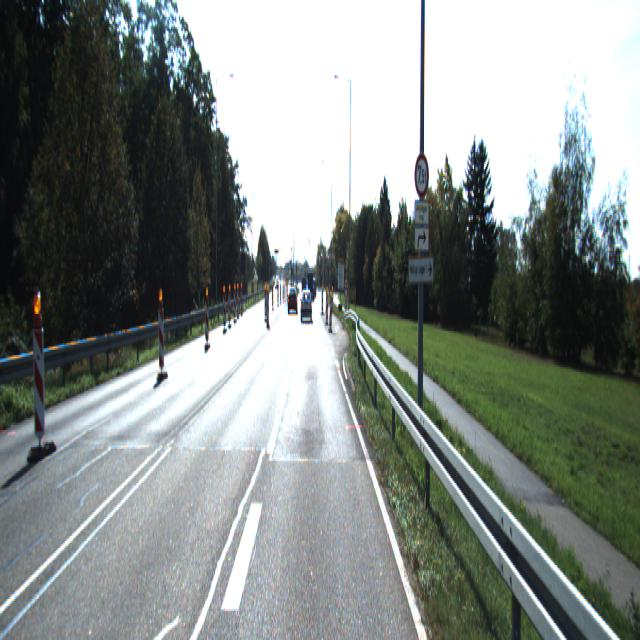Car: (301, 290, 312, 319), (288, 288, 298, 316)
